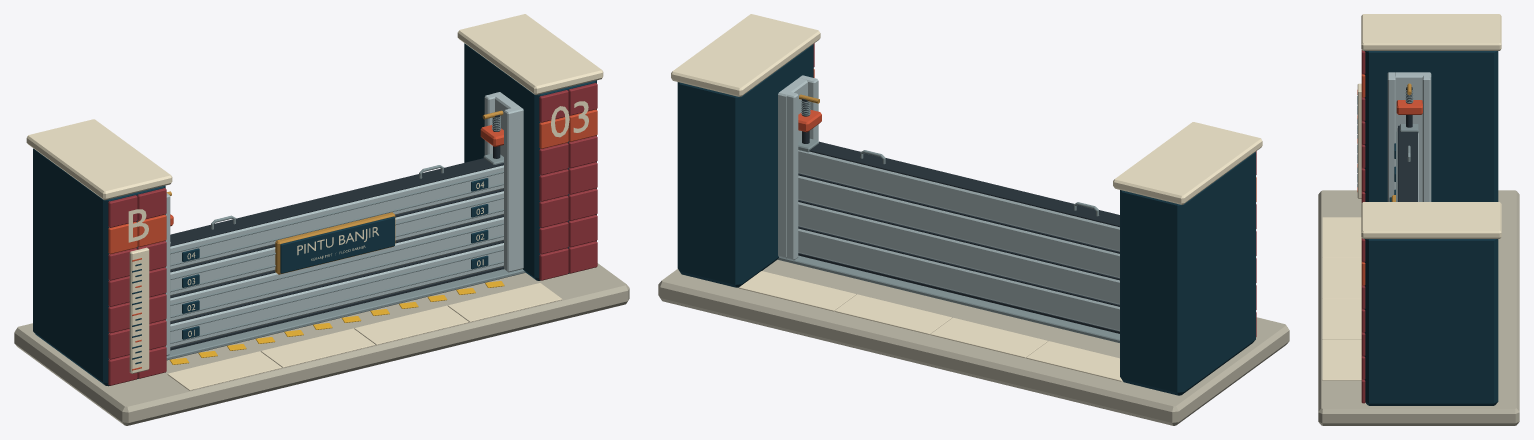
3 views of the same model, side by side, from view 1: azimuth 30°, elevation 25°; view 2: azimuth 150°, elevation 25°; view 3: azimuth 270°, elevation 25° (orthographic). The views are drawn at different scales.
Parts seen in each view (by area): view 1: Tiled Station Cheeks, Removable Stoplogs, Approach and Sealing Sill, Barrier Identification, Survey Rule, Entrance Markers, Compression Screws; view 2: Tiled Station Cheeks, Approach and Sealing Sill, Removable Stoplogs, Compression Screws; view 3: Tiled Station Cheeks, Approach and Sealing Sill, Removable Stoplogs, Compression Screws, Survey Rule.
Boxes of the visible parts, x1,y1,x2,y2 form: Tiled Station Cheeks: (26, 14, 603, 386); Removable Stoplogs: (170, 158, 503, 347); Approach and Sealing Sill: (14, 263, 629, 425); Barrier Identification: (275, 212, 395, 274); Survey Rule: (129, 247, 149, 373); Entrance Markers: (128, 101, 588, 242); Compression Screws: (166, 110, 503, 243); Tiled Station Cheeks: (671, 14, 1262, 395); Approach and Sealing Sill: (658, 253, 1289, 425); Removable Stoplogs: (798, 141, 1119, 331); Compression Screws: (798, 94, 821, 152); Tiled Station Cheeks: (1361, 14, 1501, 405); Approach and Sealing Sill: (1318, 190, 1519, 425); Removable Stoplogs: (1394, 125, 1418, 201); Compression Screws: (1396, 83, 1422, 132); Survey Rule: (1357, 83, 1361, 198).
Size of the model in its own units: 4.78 by 1.96 by 1.84.
